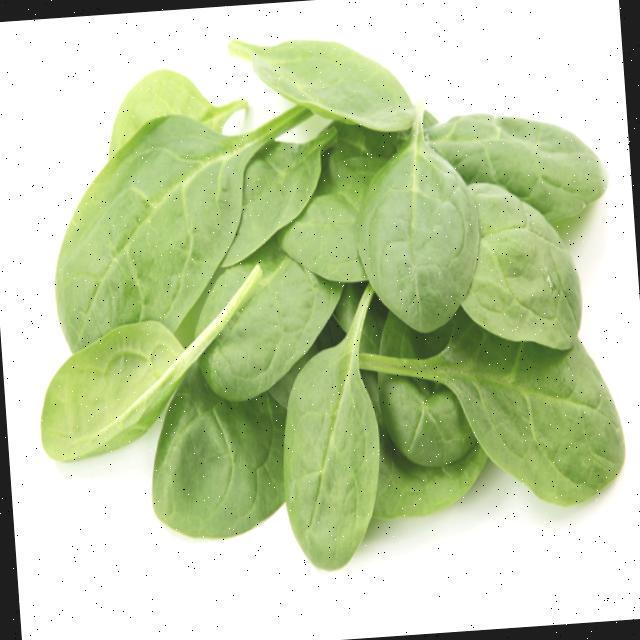spinach: (8, 1, 640, 596)
